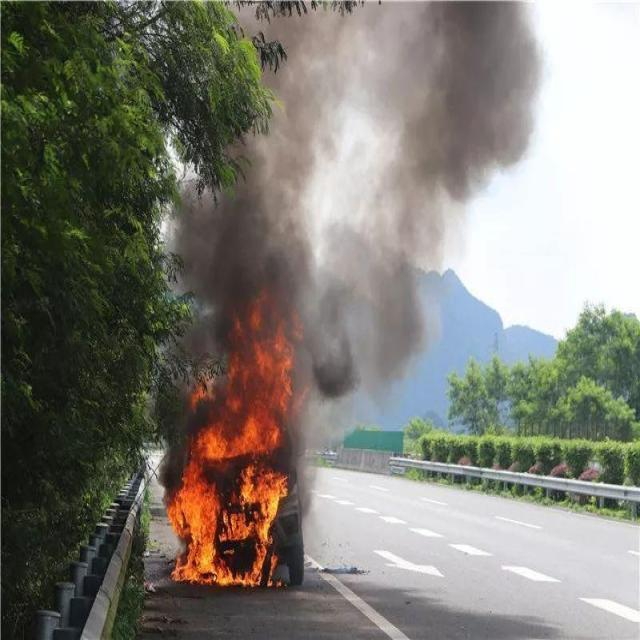Fire: (165, 290, 308, 588)
Smoke: (150, 1, 544, 557)
